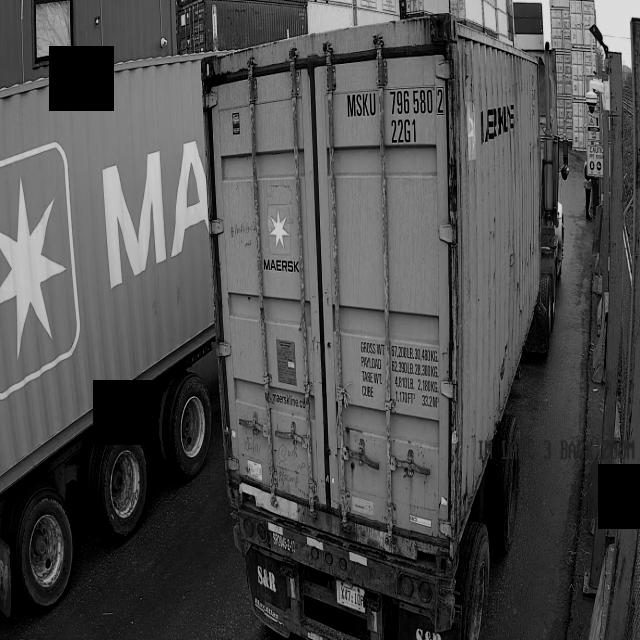container_company_logo: (262, 204, 297, 281)
container_number: (345, 90, 446, 148)
license_plate: (332, 582, 369, 613)
other_container_info: (358, 334, 439, 412)
truck_with_container: (203, 14, 568, 640), (0, 56, 215, 613)
